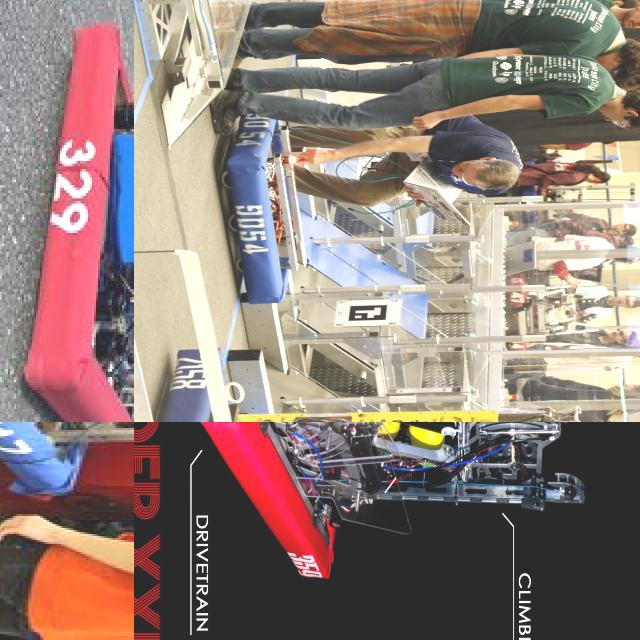FRC-Robots: (163, 422, 576, 607), (219, 91, 527, 289), (0, 18, 134, 422), (153, 338, 515, 422), (0, 422, 134, 509)
